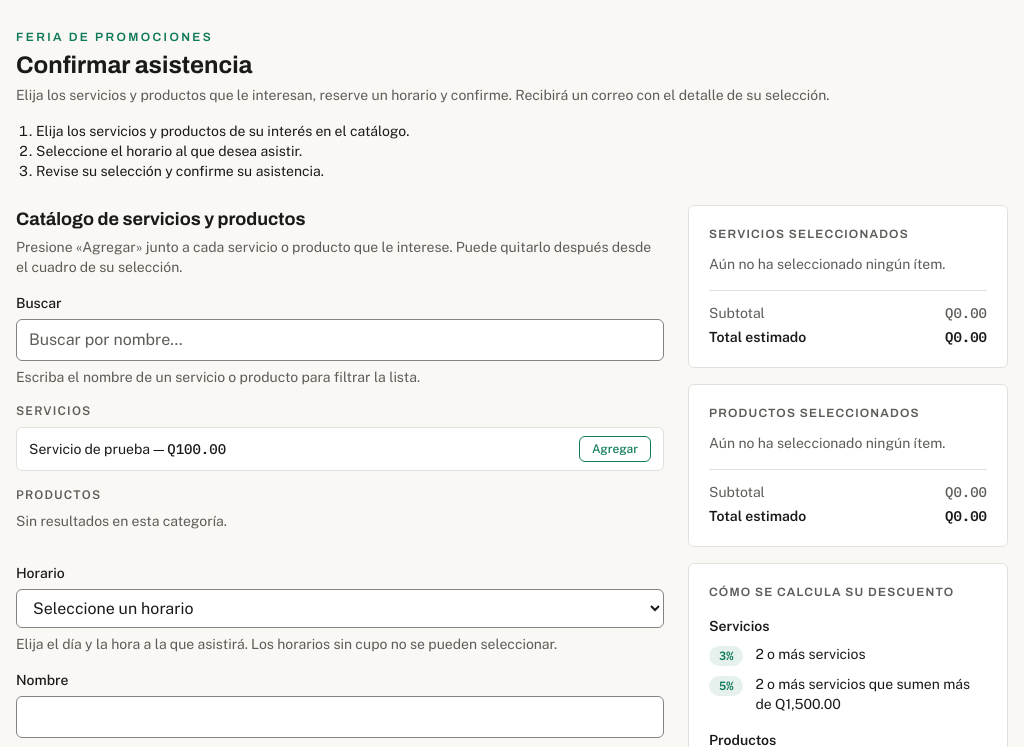
Test: ConfirmarPage — nombreCliente vacío no debe romper el submit (bug de setValueAs) › envía el formulario sin error de validación cuando nombreCliente se deja vacío
Expected: the heading "Confirmar asistencia" is shown, [16,52,252,78]
Click the button with aria-label "agregar servicio de prueba".
click(615, 449)  # box [579,436,651,462]
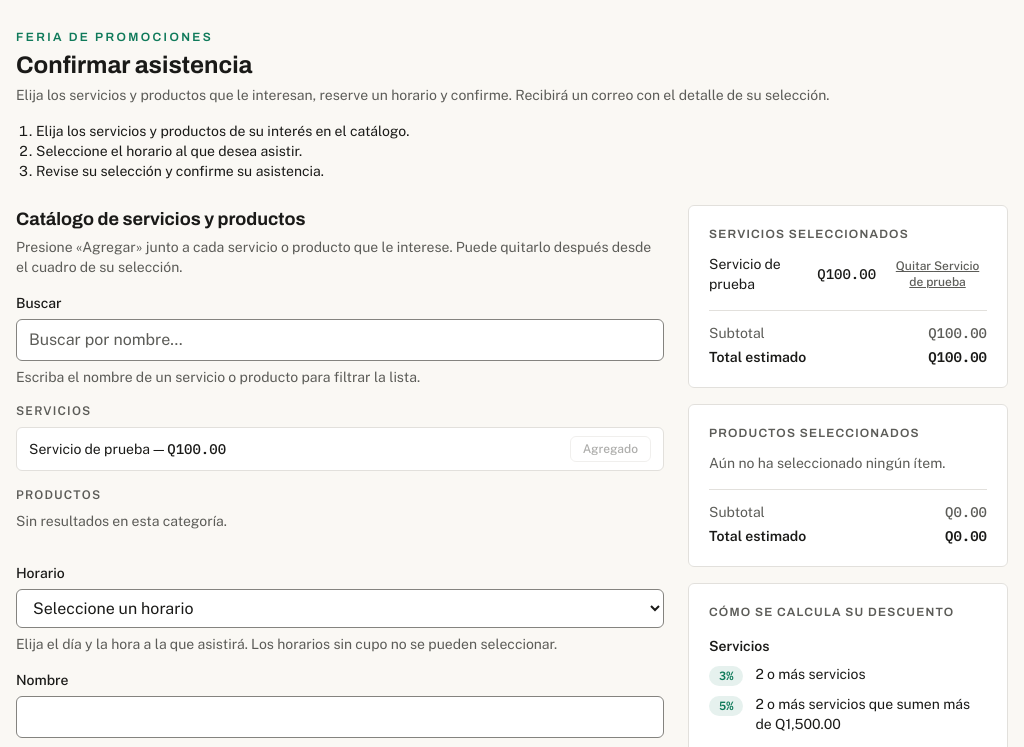
Select "1/10/2026 — 4:00 a. m. a 6:00 a. m. (5 cupos disponibles)" in the dropdown labelled "Horario" at (340, 608), box [16,589,664,628]
(page scrolled)
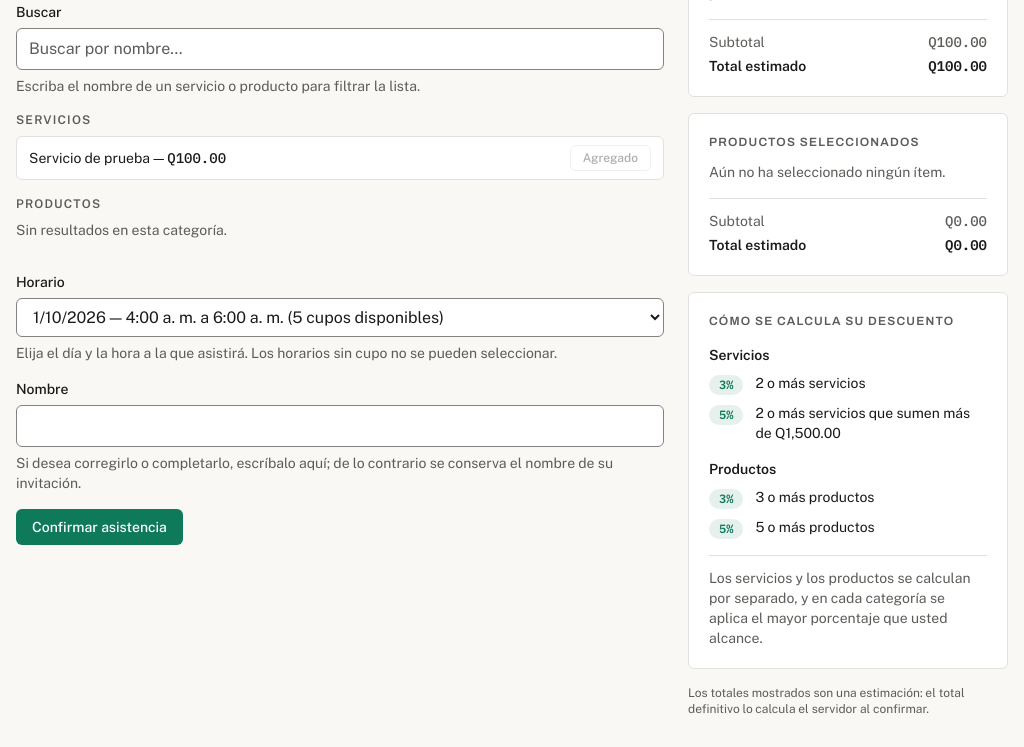
Click the button "Confirmar asistencia".
click(99, 527)  # box [16,509,183,545]
(page scrolled)
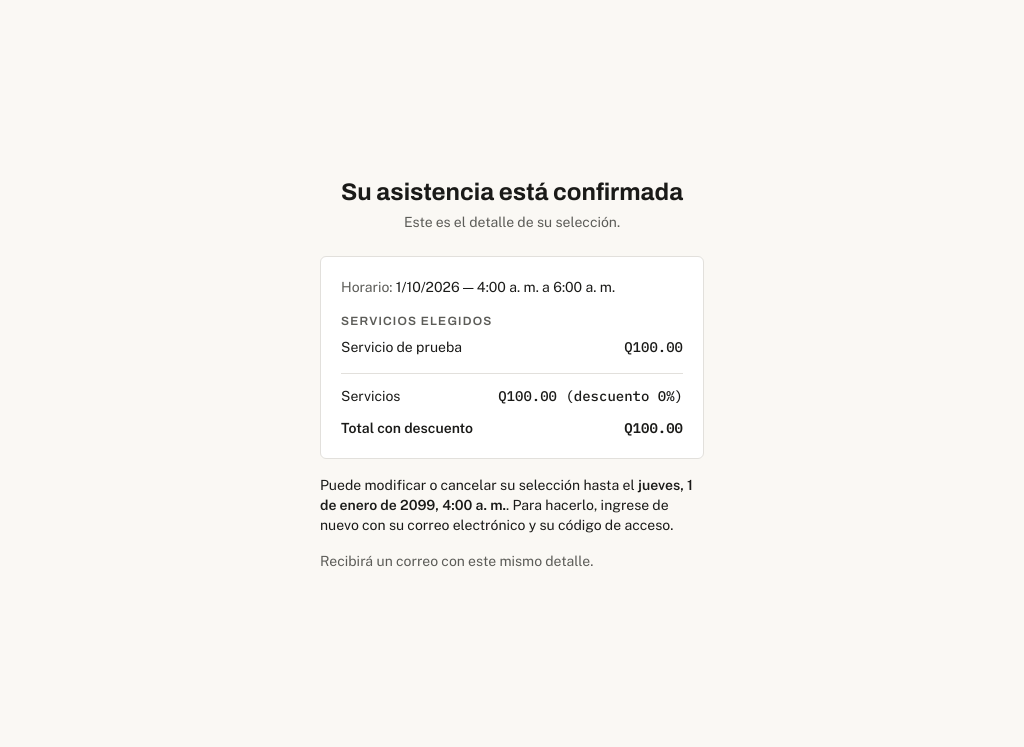
Expected: the heading "Su asistencia está confirmada" is shown, [320,176,704,208]
Expected: the text "Total con descuento" is shown, [341,418,473,438]
Expected: the text "Puede modificar o cancelar su selección hasta el" is shown, [320,476,638,492]
